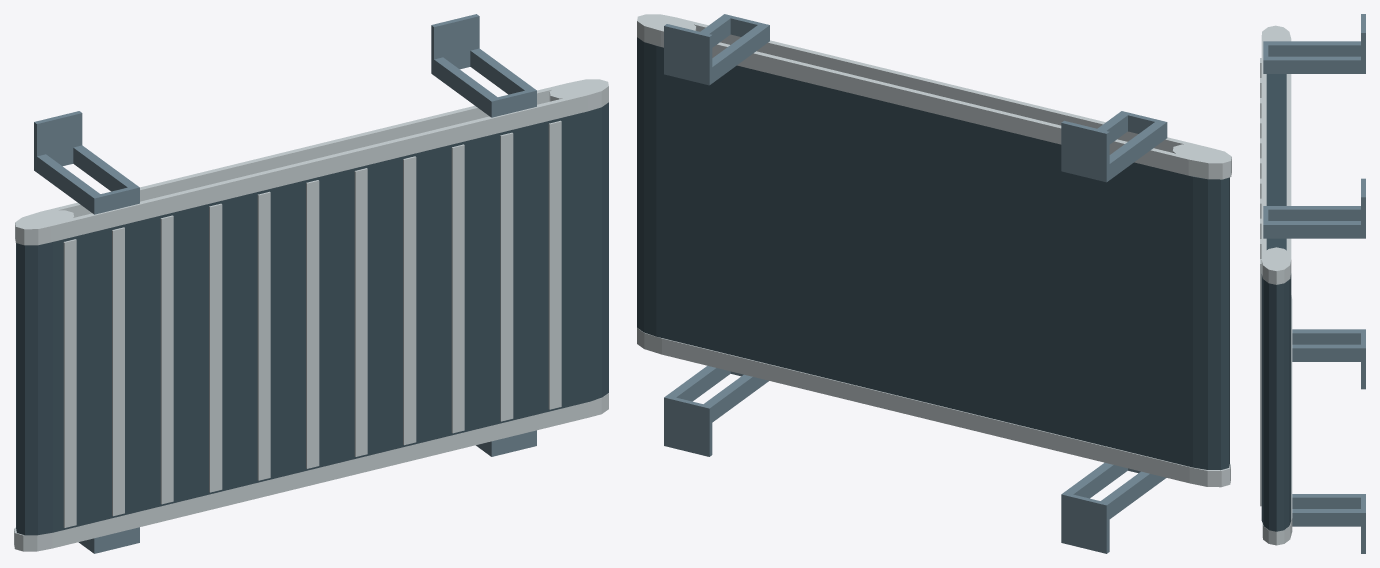
Rendered from conveyor.glb.
The picture shows the model from 3 angles, left to right: view 1: azimuth 30°, elevation 25°; view 2: azimuth 150°, elevation 25°; view 3: azimuth 270°, elevation 25°; orthographic projection. The views are drawn at different scales.
Parts seen in each view (by area): view 1: group1751849987, group600698695, group1407714466, group1395806188, group955717307, group1864052554, group1875178703, group1439868329; view 2: group1751849987, group1407714466, group1395806188, group955717307, group1864052554, group1439868329, group1875178703; view 3: group1751849987, group1864052554, group955717307, group1407714466, group1875178703, group1439868329, group1395806188, group600698695.
Boxes of the visible parts, <box> form: group1751849987: <box>16,102,608,535</box>; group600698695: <box>63,120,561,527</box>; group1407714466: <box>15,79,608,245</box>; group1395806188: <box>14,393,608,551</box>; group955717307: <box>34,111,139,214</box>; group1864052554: <box>431,14,536,117</box>; group1875178703: <box>78,527,139,553</box>; group1439868329: <box>476,430,536,456</box>; group1751849987: <box>637,37,1229,470</box>; group1407714466: <box>637,14,1231,179</box>; group1395806188: <box>637,328,1230,487</box>; group955717307: <box>1061,111,1167,182</box>; group1864052554: <box>664,14,769,85</box>; group1439868329: <box>664,366,768,456</box>; group1875178703: <box>1061,462,1166,553</box>; group1751849987: <box>1261,74,1291,531</box>; group1864052554: <box>1263,178,1365,238</box>; group955717307: <box>1263,14,1365,73</box>; group1407714466: <box>1261,25,1291,284</box>; group1875178703: <box>1292,329,1365,389</box>; group1439868329: <box>1292,494,1365,553</box>; group1395806188: <box>1262,295,1292,545</box>; group600698695: <box>1260,58,1261,506</box>.
Size of the model in its own units: 0.9 by 0.6094 by 0.1641.
